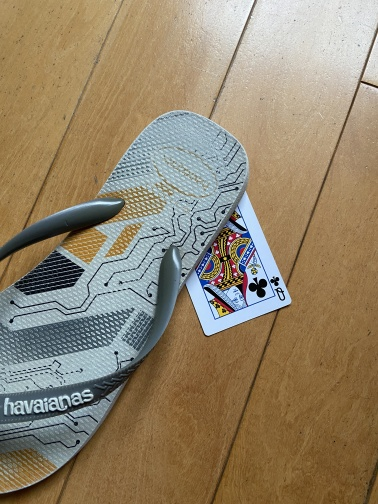queen: (152, 176, 294, 339)
